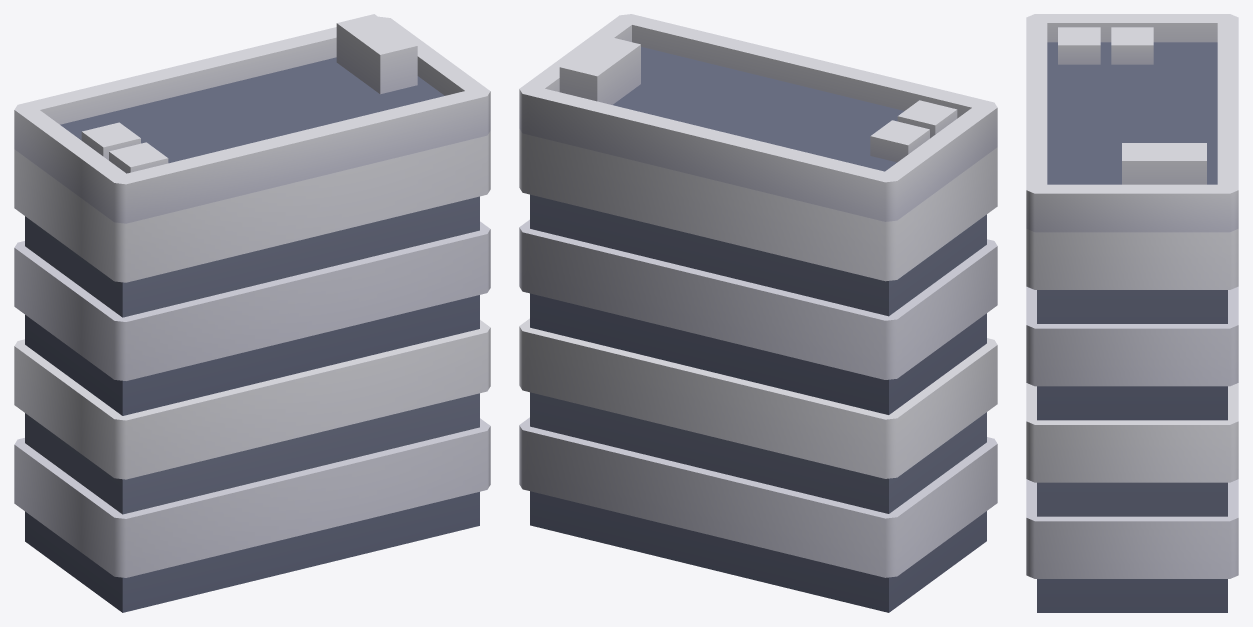
The model's file is low-detail-building-wide-b.glb.
3 renders of one model, left to right at view 1: azimuth 30°, elevation 25°; view 2: azimuth 150°, elevation 25°; view 3: azimuth 270°, elevation 25°, orthographic. The views are drawn at different scales.
Visible parts, largest first — view 1: low-detail-building-wide-b; view 2: low-detail-building-wide-b; view 3: low-detail-building-wide-b.
Part boxes in pixels (box(x1,y1,x2,y2)): low-detail-building-wide-b: box(14, 14, 490, 612); low-detail-building-wide-b: box(519, 14, 997, 612); low-detail-building-wide-b: box(1026, 14, 1238, 612).
Size of the model in its own units: 1 by 1.15 by 0.4999.
1 material, 1 textured.
